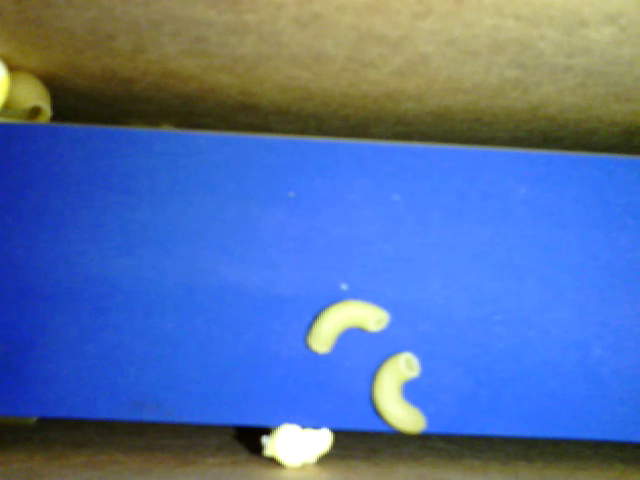elbow: (307, 297, 391, 359), (372, 350, 429, 436)
shell: (1, 67, 54, 125)
